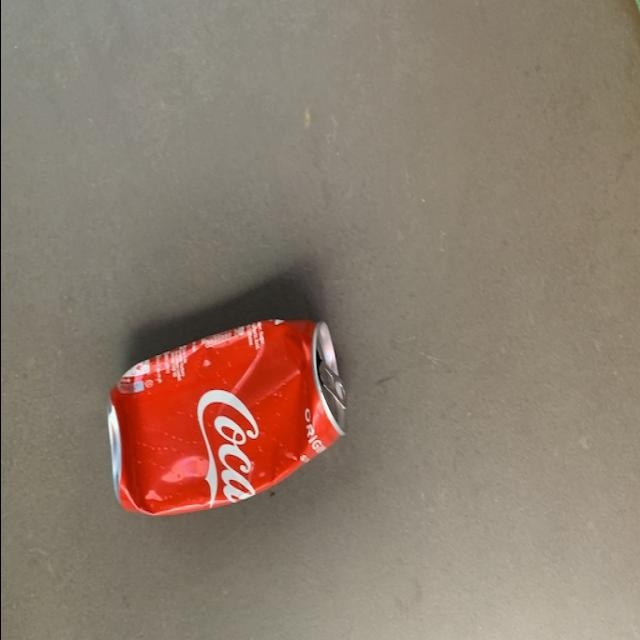litter: (97, 298, 350, 544)
